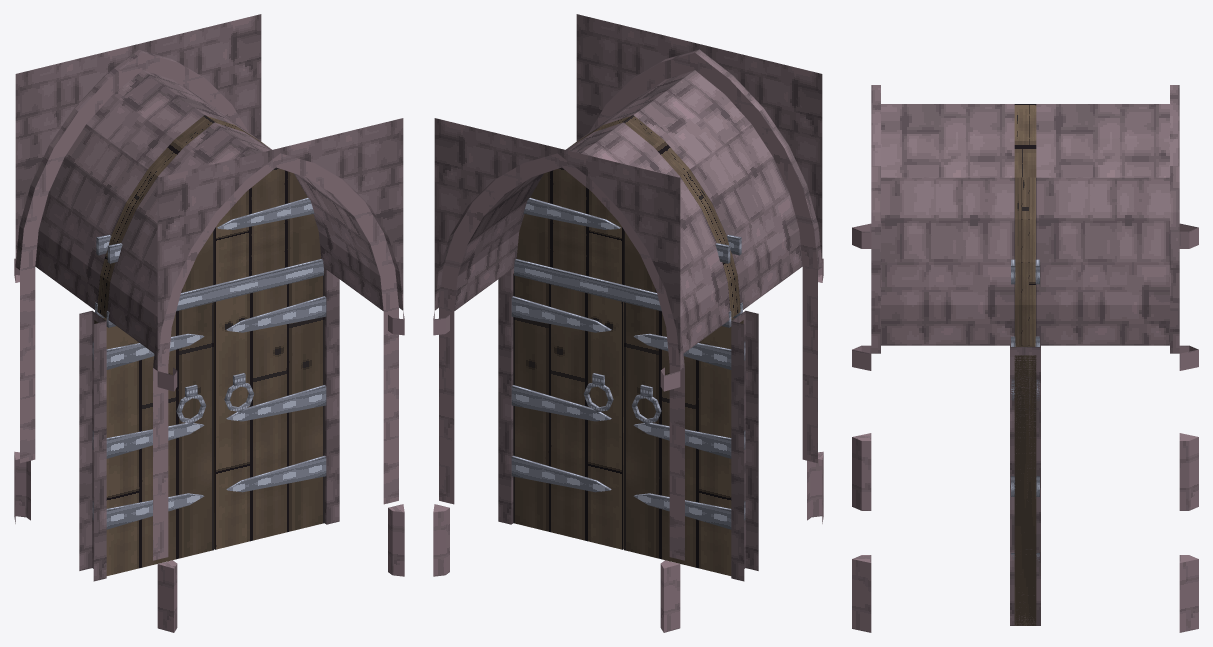
Rendered from door_normal_c.glb.
The picture shows the model from 3 angles, left to right: view 1: azimuth 30°, elevation 25°; view 2: azimuth 150°, elevation 25°; view 3: azimuth 270°, elevation 25°; orthographic projection. The views are drawn at different scales.
Visible parts, largest first — view 1: portal_front, portal_back, leaf_a, leaf_b, portal; view 2: portal_back, portal_front, leaf_a, leaf_b, portal; view 3: portal_back, portal_front, leaf_a, portal.
Part boxes in pixels (bbox=[...]): portal_front: bbox=[93, 118, 404, 632]; portal_back: bbox=[14, 14, 261, 570]; leaf_a: bbox=[214, 273, 326, 549]; leaf_b: bbox=[92, 302, 213, 575]; portal: bbox=[95, 115, 323, 327]; portal_back: bbox=[433, 118, 744, 632]; portal_front: bbox=[576, 14, 823, 570]; leaf_a: bbox=[511, 273, 623, 549]; leaf_b: bbox=[624, 302, 745, 575]; portal: bbox=[514, 115, 742, 327]; portal_back: bbox=[1025, 85, 1198, 632]; portal_front: bbox=[852, 85, 1025, 632]; leaf_a: bbox=[1011, 345, 1039, 625]; portal: bbox=[1011, 104, 1039, 346].
Size of the model in its own units: 2 by 3.5 by 2.25.
Materials: 1 (1 with a texture image).
